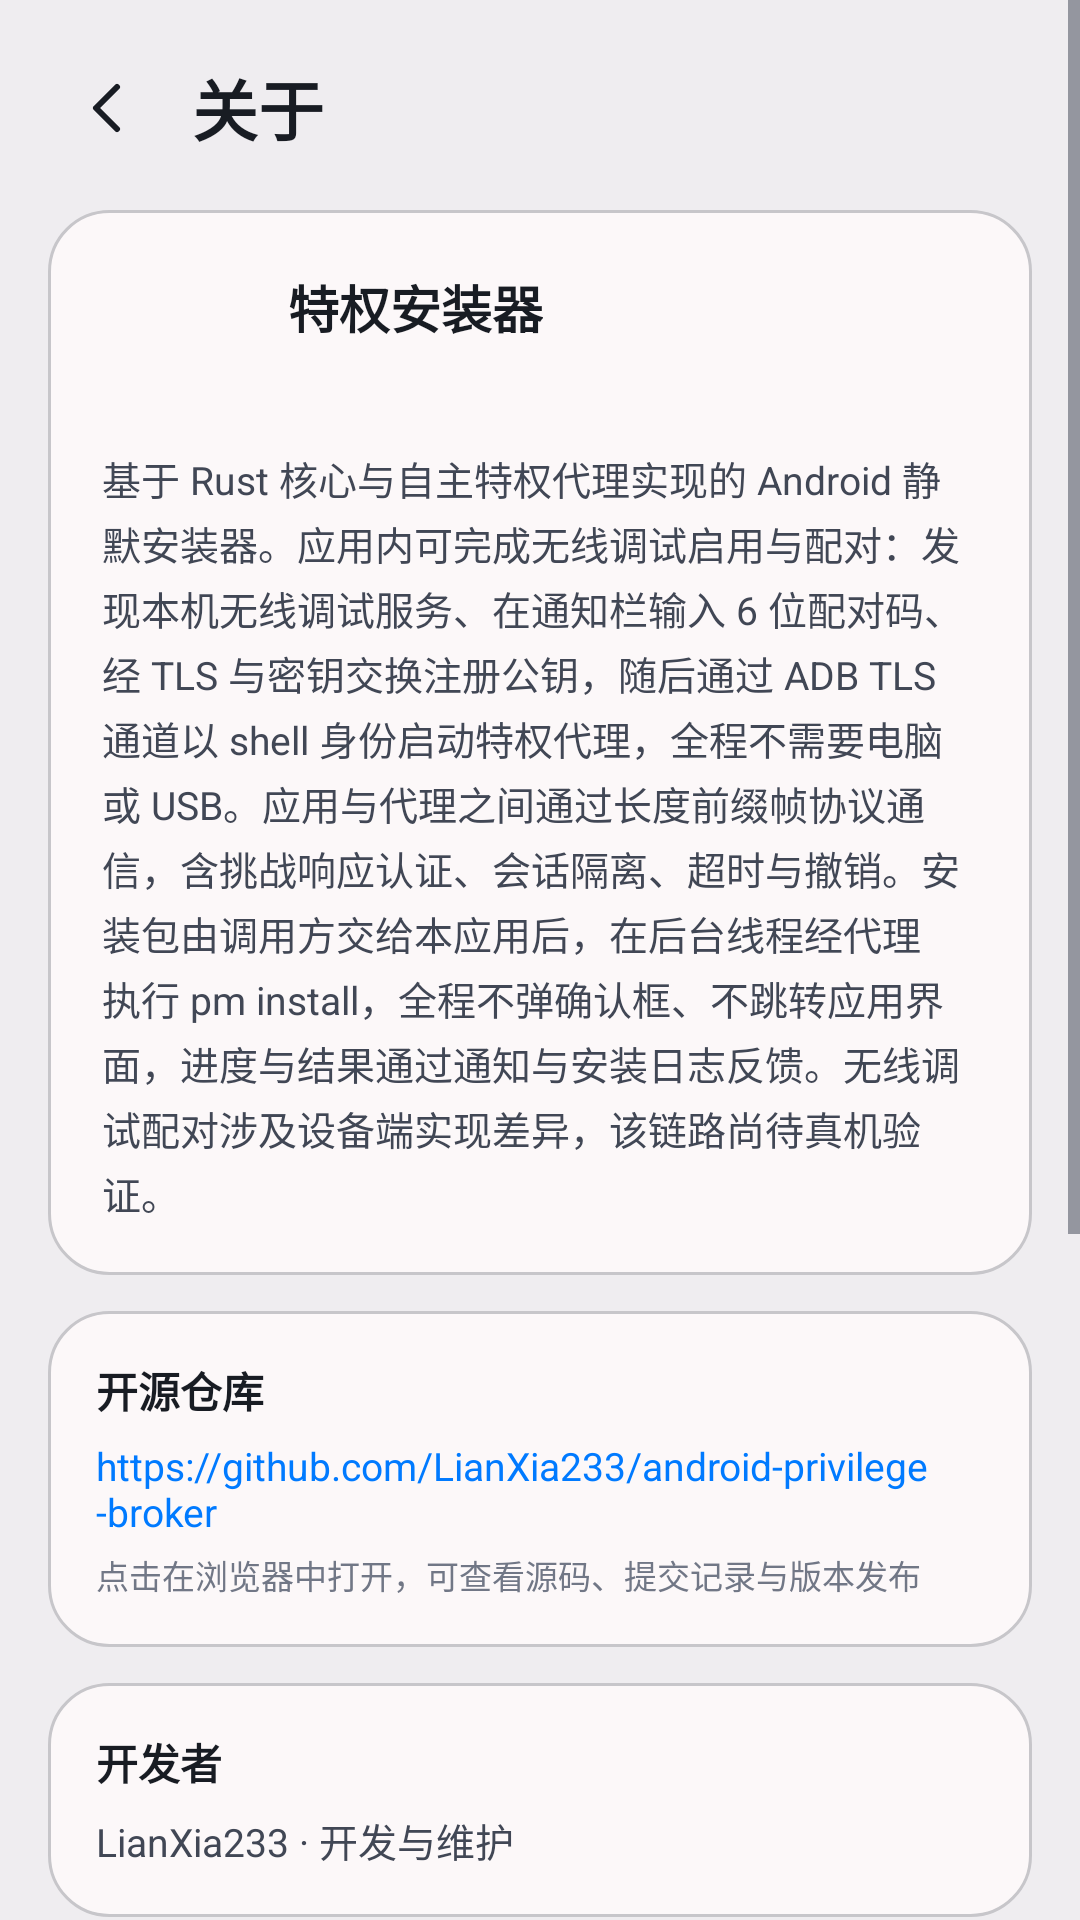

Icon click points for this 1080px x 1920px phone screenshot, format (x,y):
返回: (106,108)
